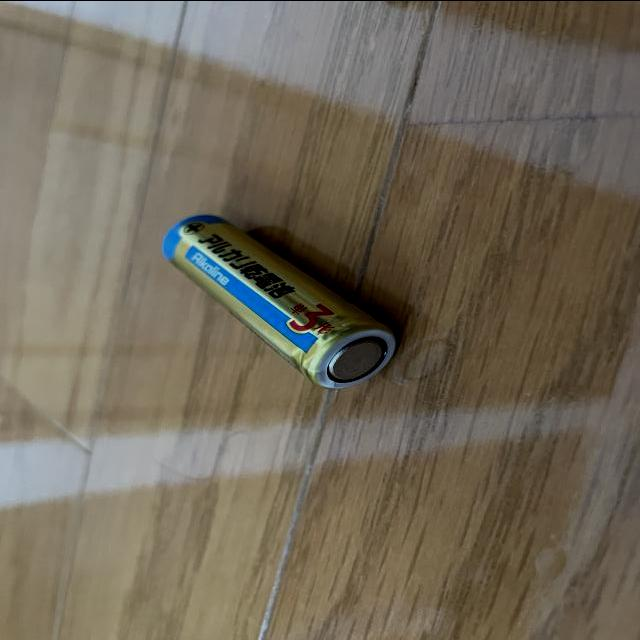AA: (156, 212, 396, 394)
